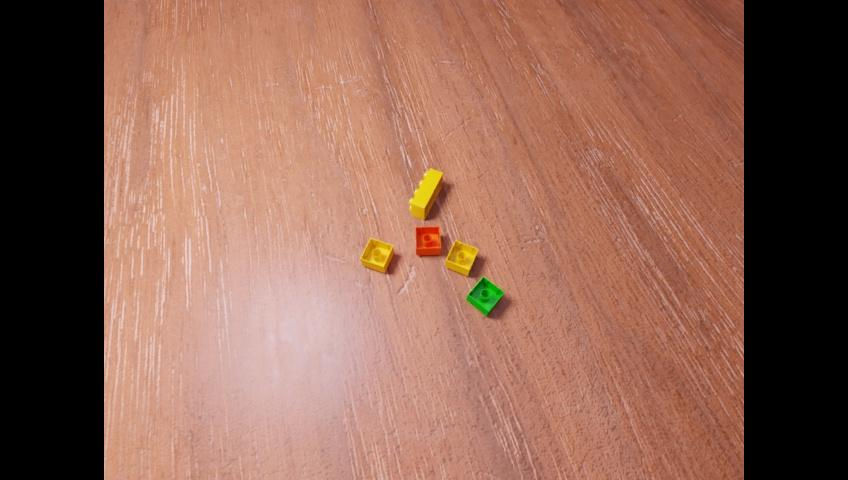2x2_green: (466, 276, 503, 315)
2x2_orange: (415, 226, 442, 254)
2x2_yellow: (361, 238, 394, 273), (446, 241, 478, 277)
4x2_yellow: (409, 168, 444, 220)
